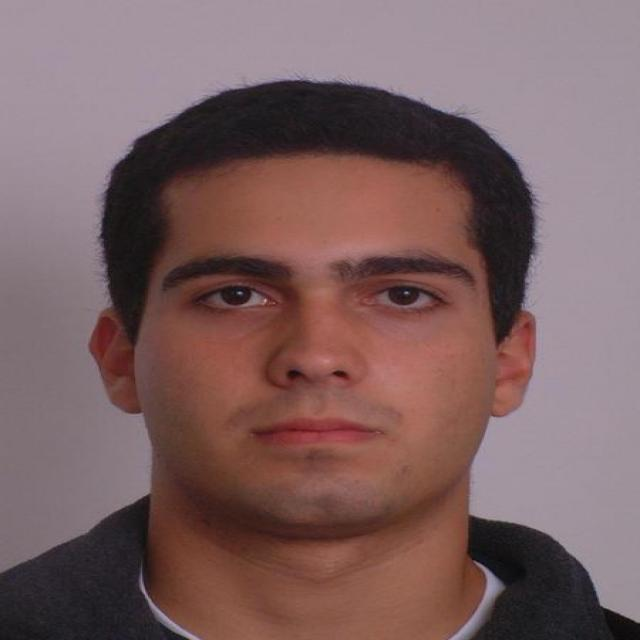earlobe: (111, 385, 141, 414), (491, 387, 518, 417)
eye: (364, 284, 440, 312), (198, 284, 275, 309)
nose: (273, 366, 363, 406)
wholeear: (91, 306, 140, 414), (491, 310, 538, 417)
